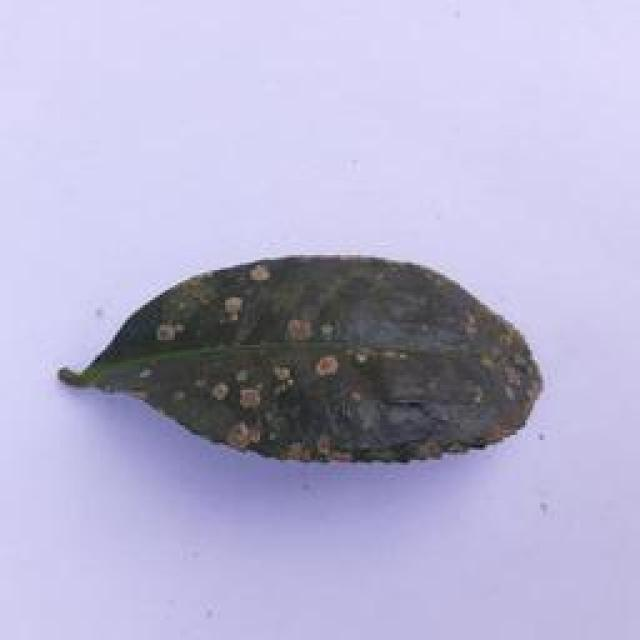Algal Leaf Spot: (62, 252, 548, 464)
